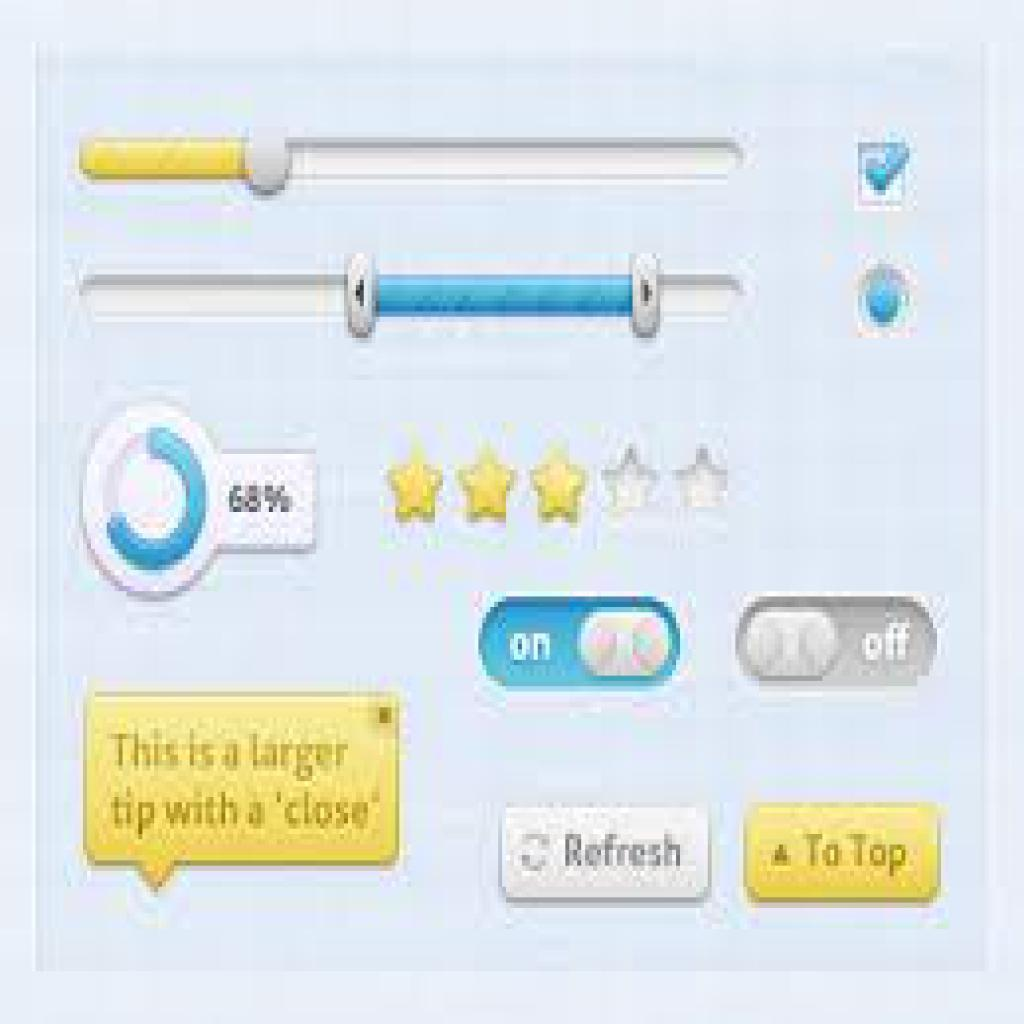button: (500, 809, 714, 899), (747, 807, 940, 904)
checkbox: (857, 136, 910, 205)
radio: (851, 261, 917, 341)
switch: (732, 593, 939, 699), (473, 597, 680, 695)
